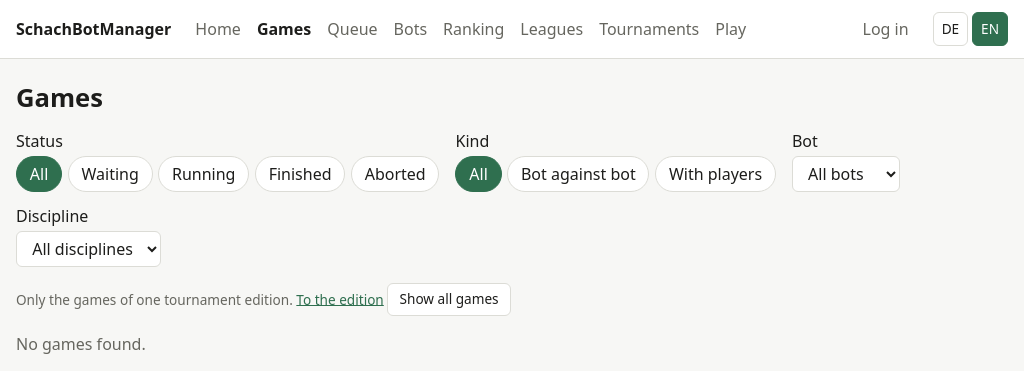
Test: tournament pages › filters the games by edition
The width and height of the screenshot is (1024, 371).
Expected: the text "Only the games of one tournament edition." is shown, left=16, top=289, right=293, bottom=308
Click the button "Show all games".
click(449, 299)  # box left=387, top=282, right=511, bottom=316
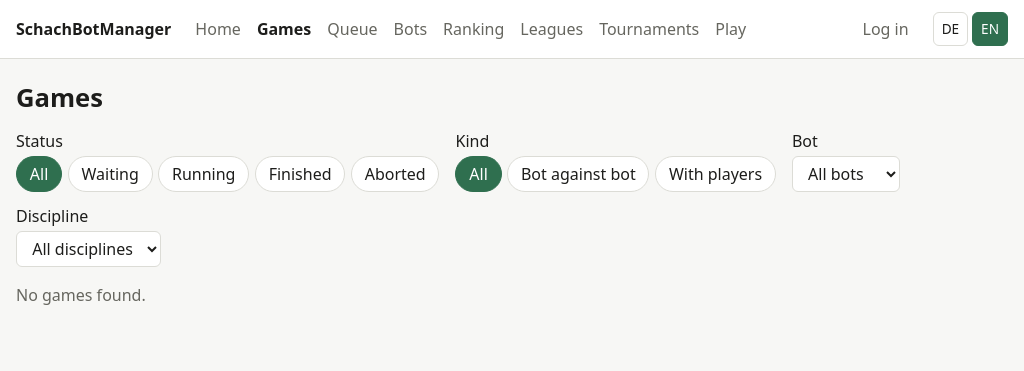
Result: the text "Only the games of one tournament edition." is gone
